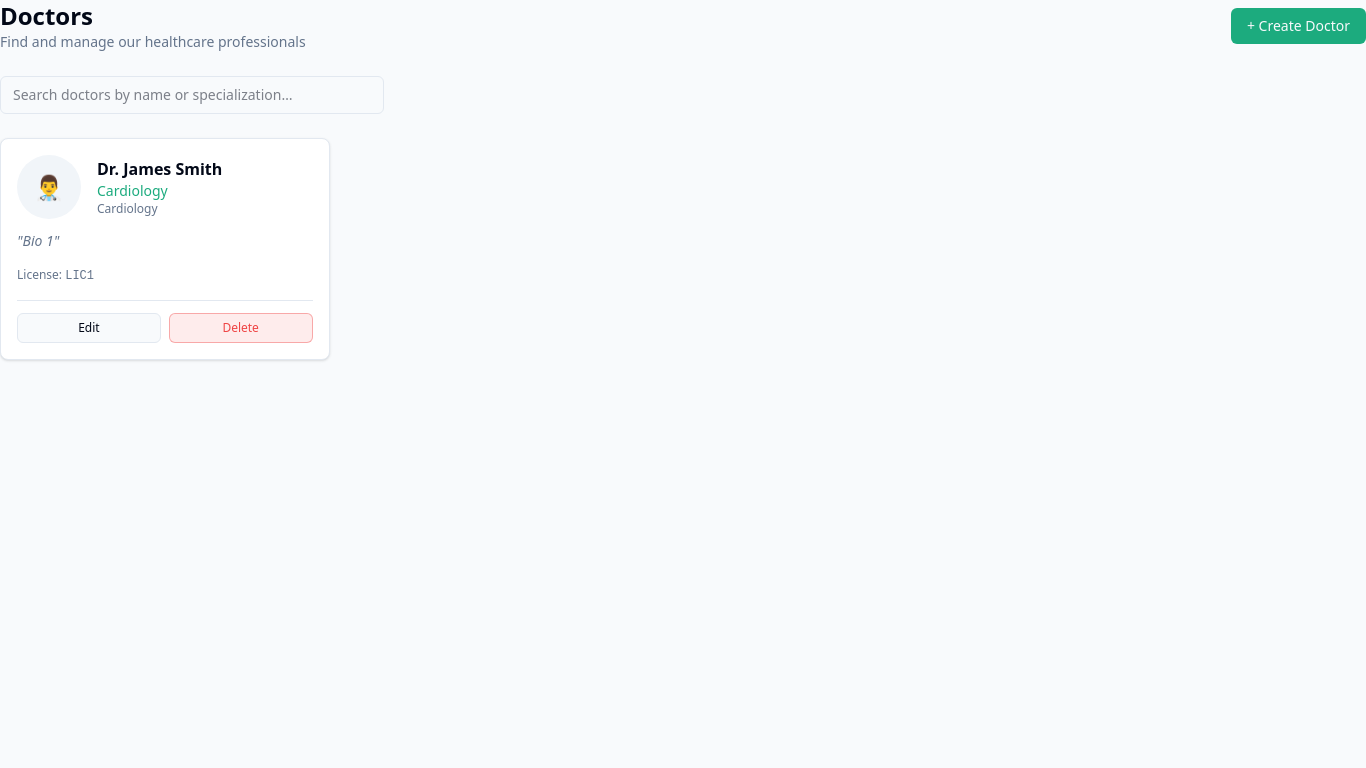
Test case: DoctorsPage — admin view › opens the create form when Create Doctor is clicked
The image size is (1366, 768).
Click the button with test id "create-doctor-button". click: {"x": 1298, "y": 26}
box: left=1231, top=8, right=1365, bottom=44
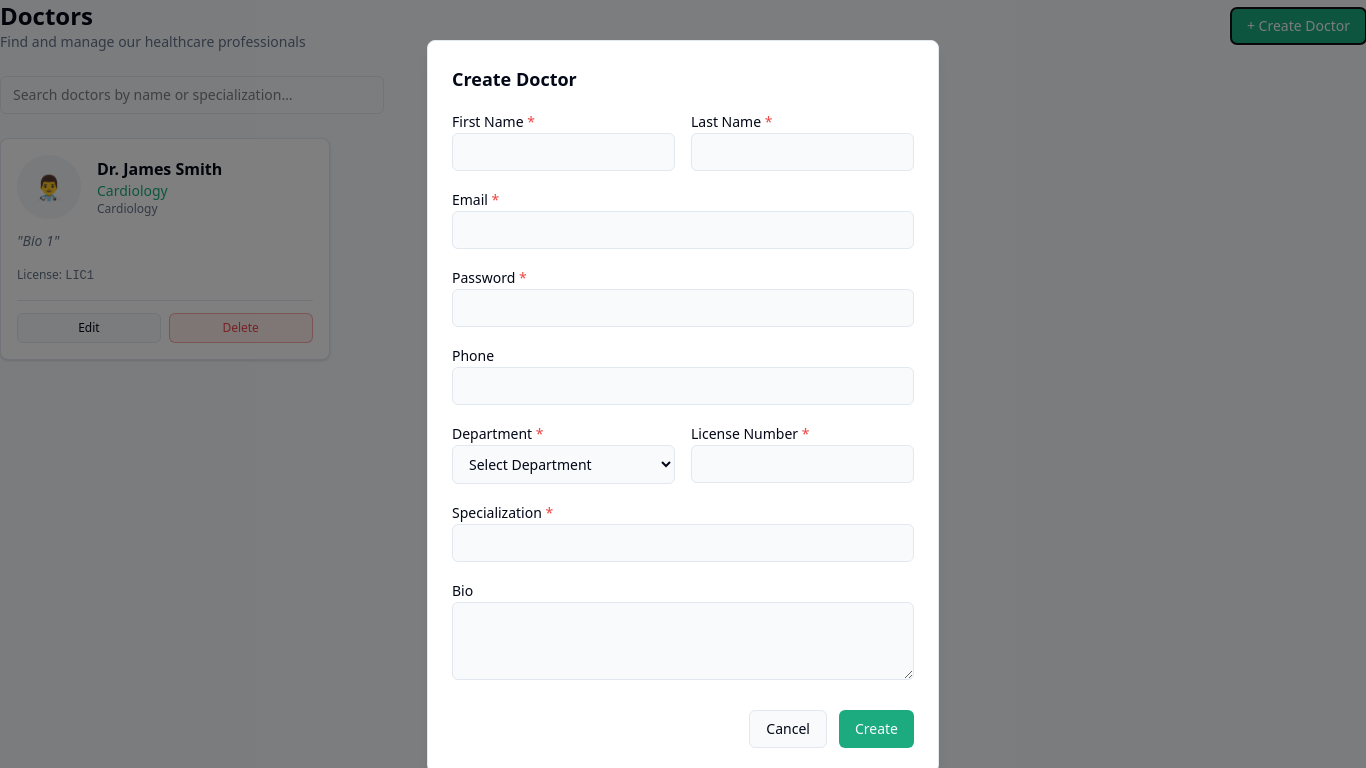
expect the element with test id "doctor-form-modal" is shown: met
